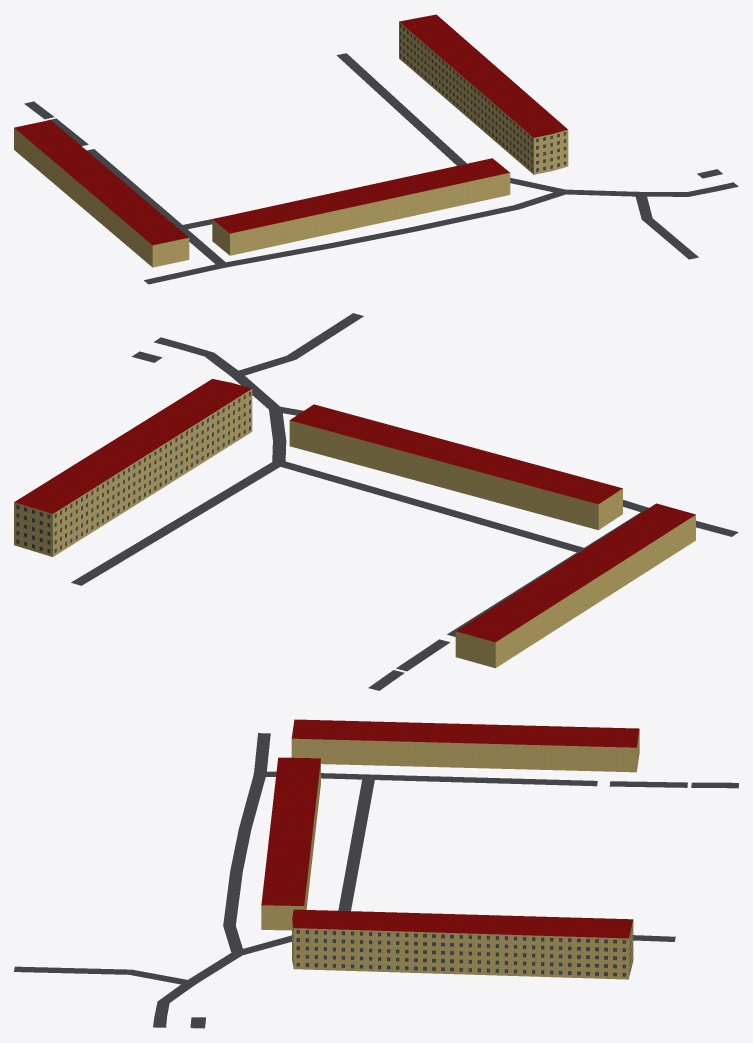
The model's file is district_1_2.glb.
The picture shows the model from 3 angles, top to bottom: view 1: azimuth 30°, elevation 25°; view 2: azimuth 150°, elevation 25°; view 3: azimuth 270°, elevation 25°; orthographic projection. The views are drawn at different scales.
Parts seen in each view (by area): view 1: Building w44036152, Building w282363095, Building w44036160, Road w40942440, Road w45062796, Road w45063370, Road w475516995; view 2: Building w282363095, Building w44036152, Building w44036160, Road w45063370, Road w203453829, Road w45062796, Road w40942440, Road w475516995; view 3: Building w282363095, Building w44036160, Building w44036152, Road w40942440, Road w45062796, Road w203453829, Road w475516995.
Boxes of the visible parts, bbox=[...] form: Building w44036152: bbox=[212, 158, 510, 255]; Building w282363095: bbox=[399, 14, 568, 174]; Building w44036160: bbox=[14, 120, 189, 267]; Road w40942440: bbox=[226, 187, 717, 266]; Road w45062796: bbox=[24, 101, 225, 284]; Road w45063370: bbox=[336, 53, 466, 165]; Road w475516995: bbox=[636, 196, 698, 259]; Building w282363095: bbox=[14, 379, 252, 556]; Building w44036152: bbox=[289, 404, 622, 530]; Building w44036160: bbox=[455, 503, 695, 668]; Road w45063370: bbox=[71, 440, 286, 585]; Road w203453829: bbox=[281, 462, 583, 552]; Road w45062796: bbox=[368, 512, 738, 690]; Road w40942440: bbox=[177, 344, 648, 512]; Road w475516995: bbox=[239, 313, 363, 374]; Building w282363095: bbox=[292, 909, 633, 979]; Building w44036160: bbox=[291, 719, 639, 772]; Building w44036152: bbox=[261, 757, 320, 930]; Road w40942440: bbox=[154, 776, 265, 1016]; Road w45062796: bbox=[254, 733, 738, 788]; Road w203453829: bbox=[338, 779, 374, 910]; Road w475516995: bbox=[14, 966, 185, 984].
Bounding box in the file's own units: 193 × 12.5 × 200.
4 materials, 4 textured.
